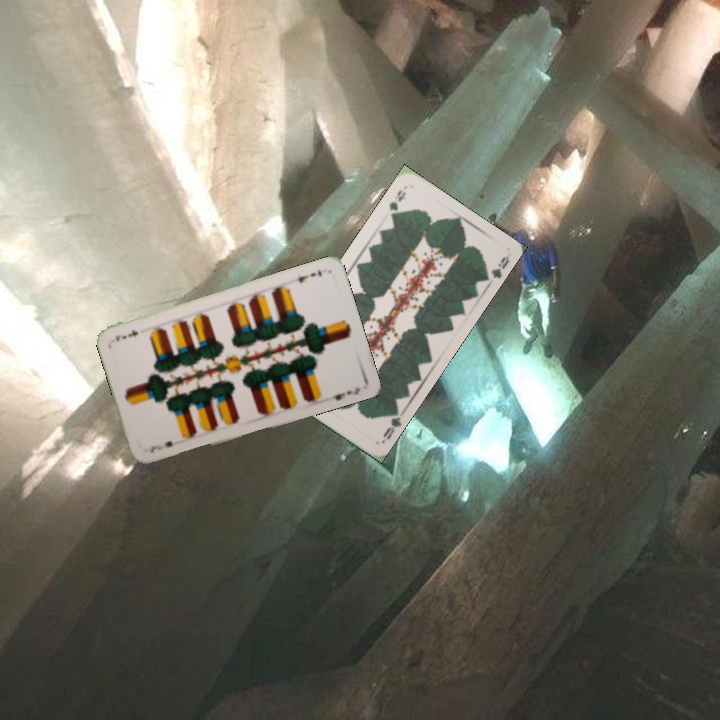E7: (289, 266, 324, 286), (146, 437, 175, 455)
G9: (385, 184, 409, 221), (379, 406, 403, 442)
